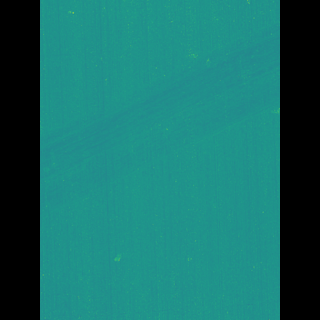Loch: (69, 18, 248, 219)
